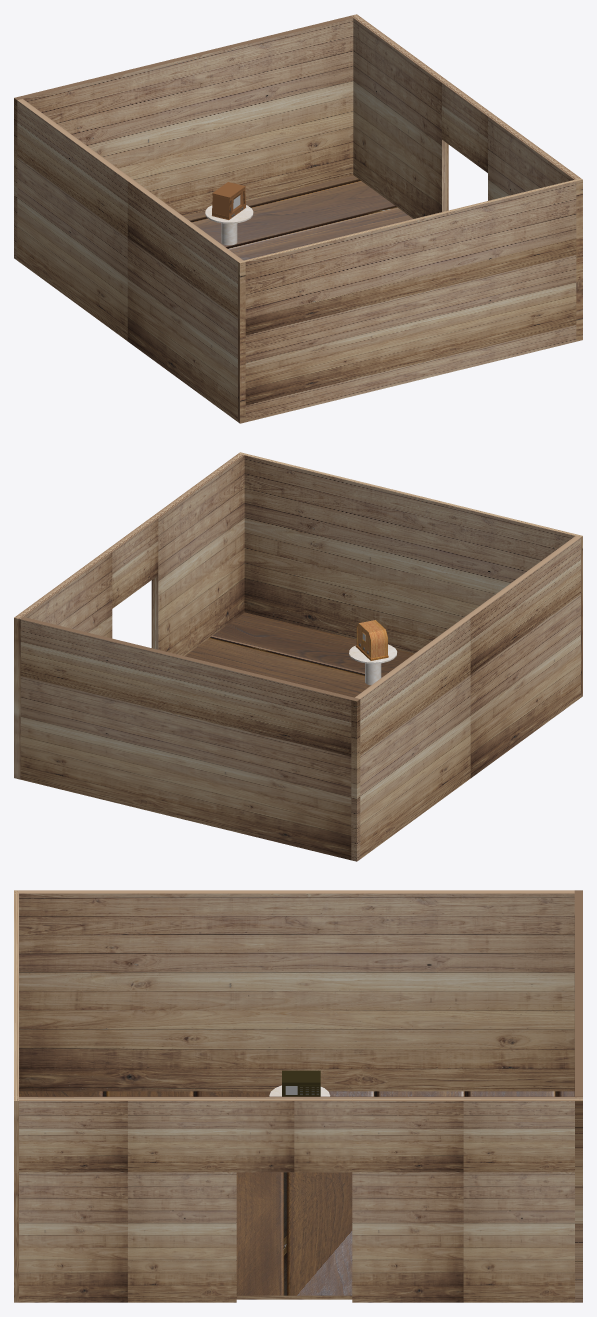
Rendered from CuartoTV.fbx.
The picture shows the model from 3 angles, top to bottom: view 1: azimuth 30°, elevation 25°; view 2: azimuth 150°, elevation 25°; view 3: azimuth 270°, elevation 25°; orthographic projection. The views are drawn at different scales.
Visible parts, largest first — view 1: pCube2, pCylinder13, pCylinder16; view 2: pCube2, pCylinder4, pCylinder14; view 3: pCube2, pCylinder8.
Boxes of the visible parts, bbox=[...] form: pCube2: bbox=[14, 14, 582, 423]; pCylinder13: bbox=[212, 182, 245, 219]; pCylinder16: bbox=[205, 205, 253, 245]; pCube2: bbox=[14, 452, 582, 861]; pCylinder4: bbox=[355, 620, 388, 660]; pCylinder14: bbox=[349, 644, 397, 685]; pCube2: bbox=[14, 890, 582, 1302]; pCylinder8: bbox=[282, 1070, 320, 1096].
Bounding box in the file's own units: 19.73 × 9.24 × 22.53.
Materials: 14 (6 with a texture image).
